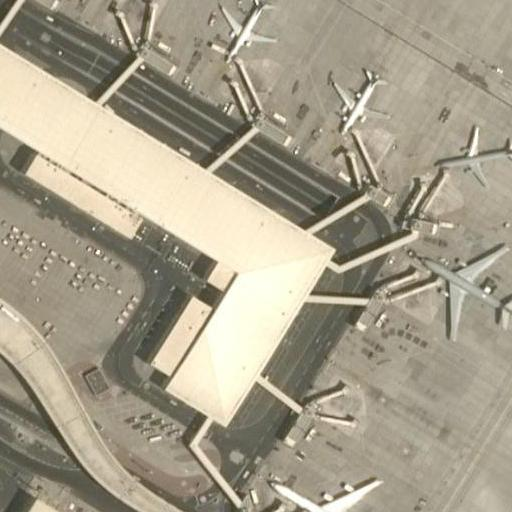Aircraft: (410, 227, 512, 337), (269, 466, 402, 512), (436, 117, 512, 180), (327, 62, 391, 129), (214, 0, 271, 52)
